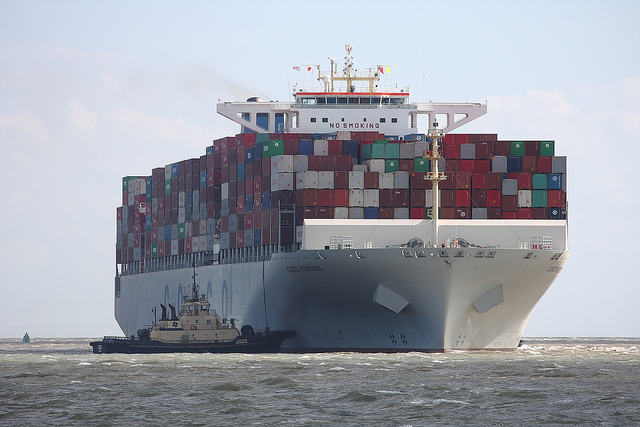container_ship: (111, 40, 568, 358)
tug_boat: (91, 278, 291, 355)
